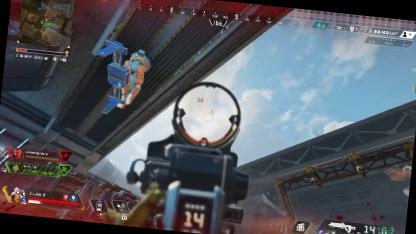Target: (209, 108, 214, 114)
